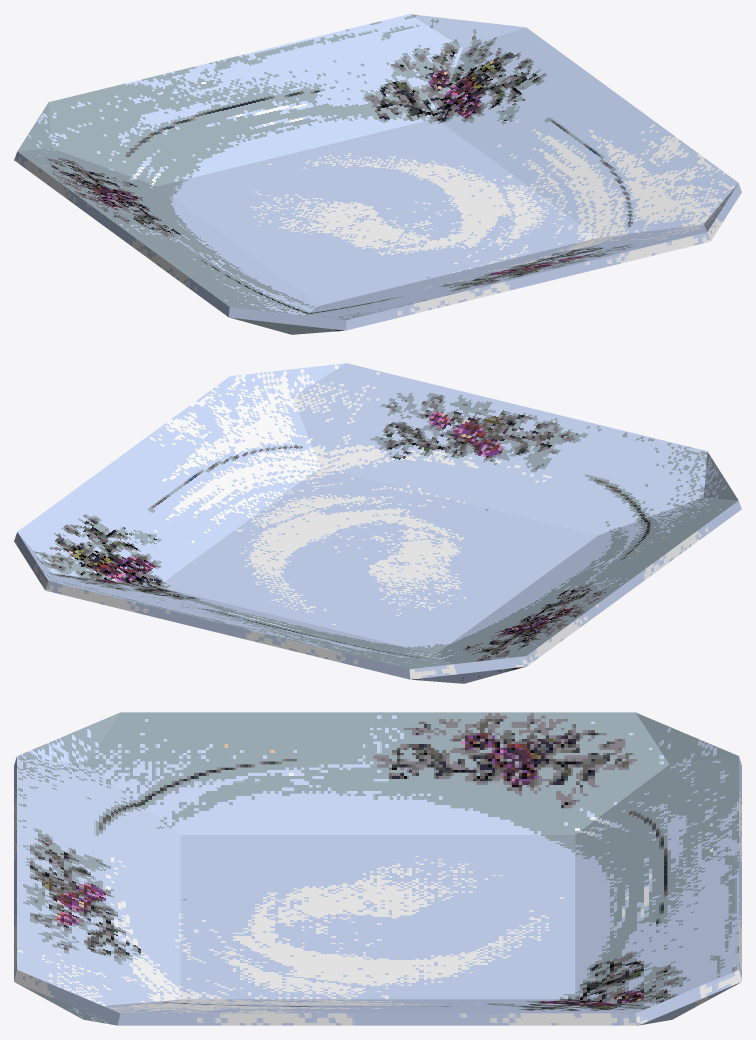
3 views of the same model, one above another, from view 1: azimuth 30°, elevation 25°; view 2: azimuth 150°, elevation 25°; view 3: azimuth 270°, elevation 25° (orthographic). The views are drawn at different scales.
Visible parts, largest first — view 1: SM_PSX_Plate_0; view 2: SM_PSX_Plate_0; view 3: SM_PSX_Plate_0.
Part boxes in pixels (x1,y1,x2,y2): SM_PSX_Plate_0: [14, 14, 741, 334]; SM_PSX_Plate_0: [14, 363, 741, 683]; SM_PSX_Plate_0: [14, 712, 741, 1025].
Size of the model in its own units: 0.2809 by 0.0283 by 0.2848.
Materials: 1 (1 with a texture image).
